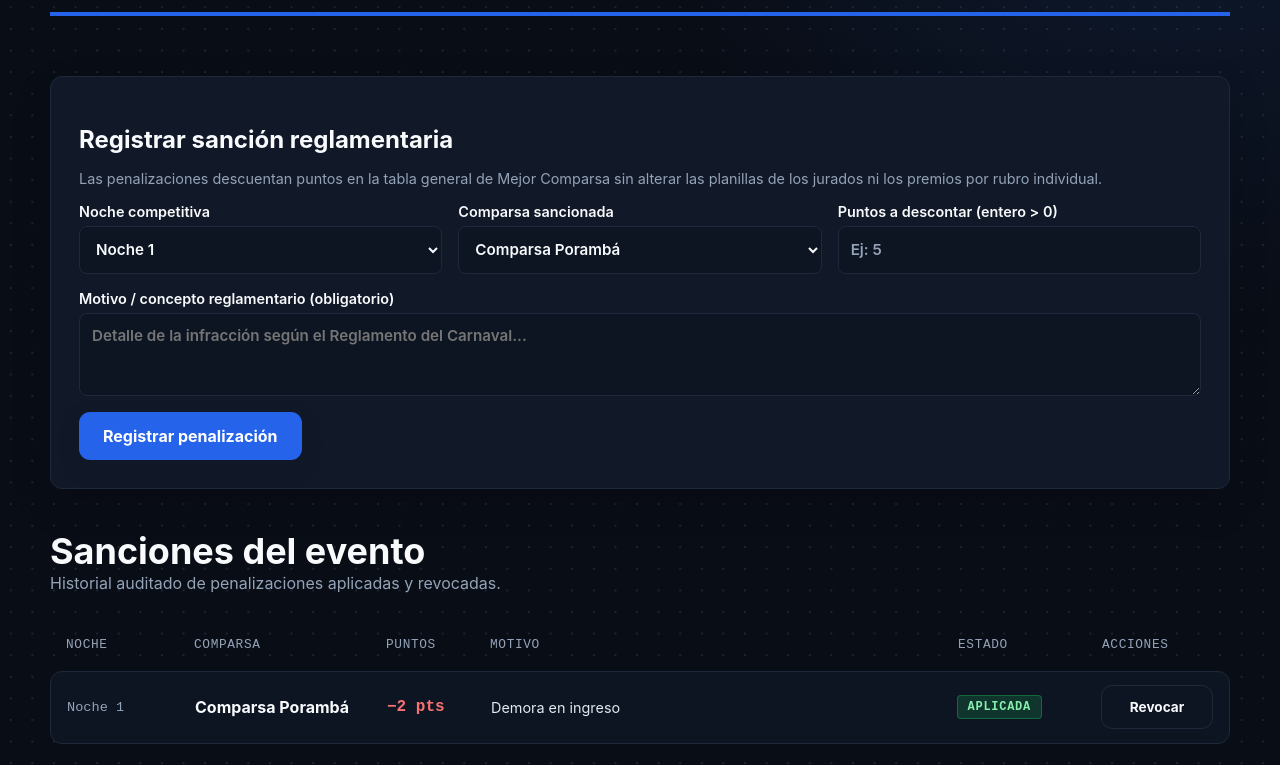
AdminPenaltiesPage › abre modal accesible para revocar sanción, valida foco, Escape y retorno de foco
(page scrolled)
Click the button with aria-label "revocar sanción a comparsa porambá" at [1157, 707], box [1101, 685, 1213, 729]
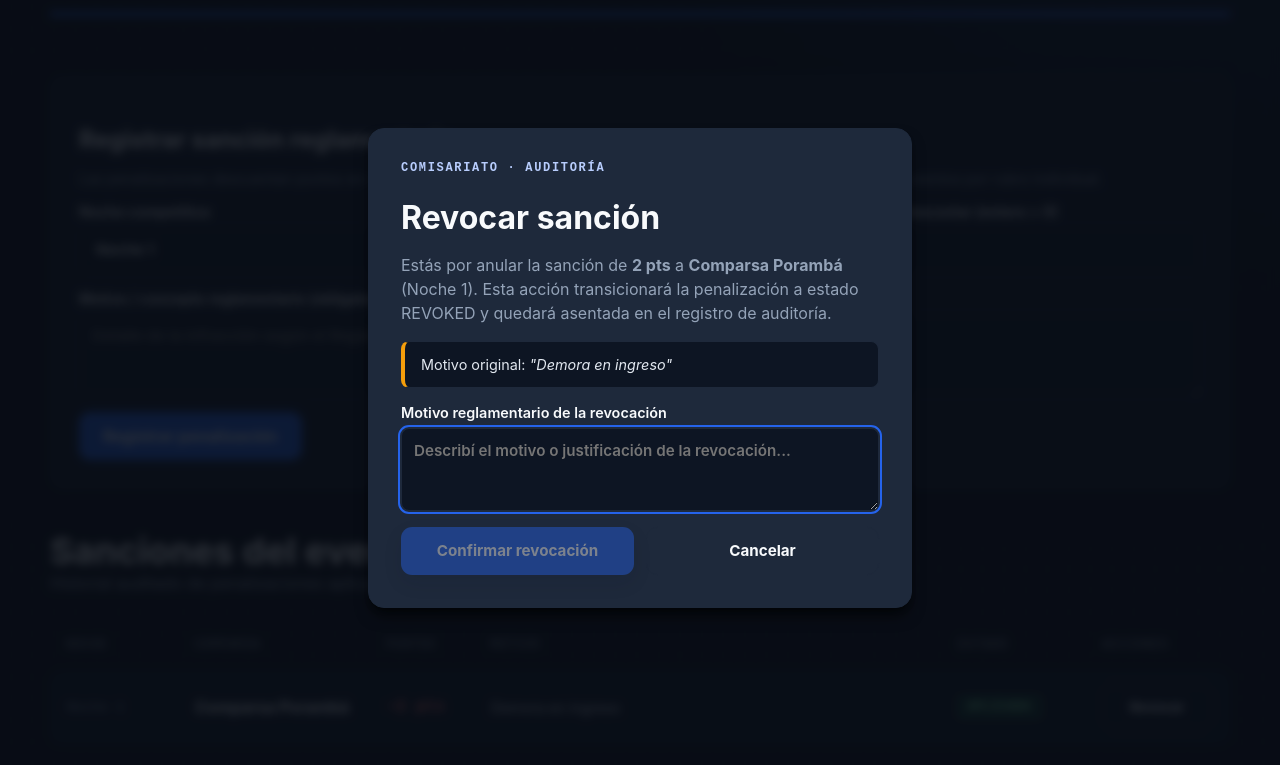
Result: the heading "Revocar sanción" is shown at [401, 198, 660, 237]
Note: Probar cierre con tecla Escape y retorno de foco al botón disparador
Press Escape
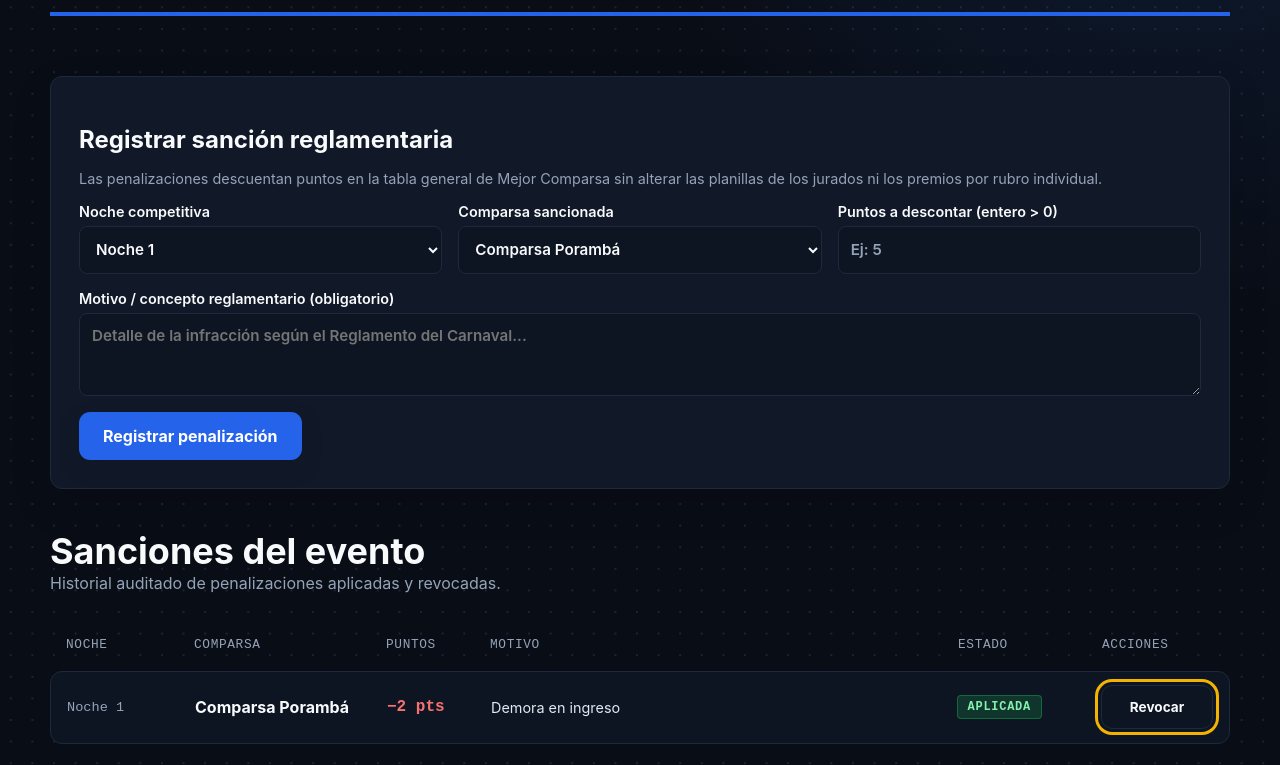
Result: the heading "Revocar sanción" is gone
Note: Reabrir y completar revocación
Click the button with aria-label "revocar sanción a comparsa porambá" at [1157, 707], box [1101, 685, 1213, 729]
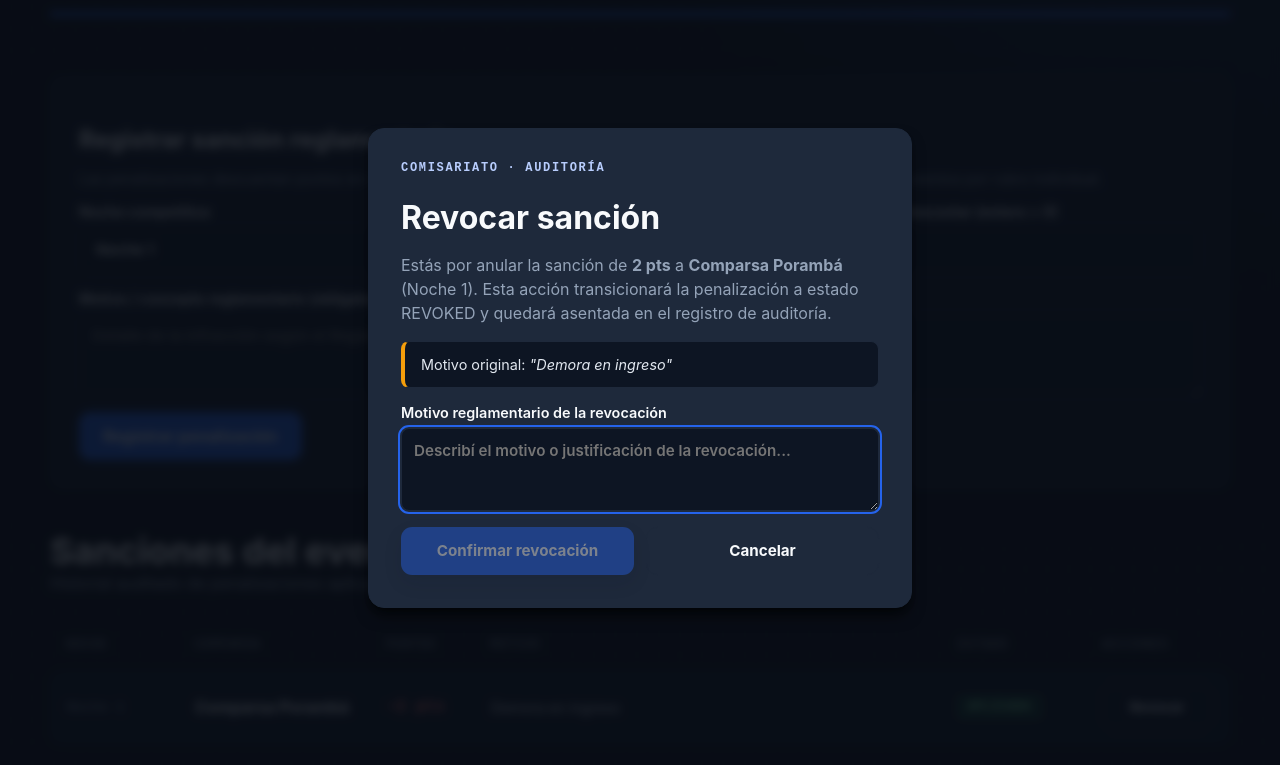
Type "Anulación por error de cronometraje" into the text box labelled "Motivo reglamentario de la revocación" at [640, 469], box [401, 428, 879, 511]
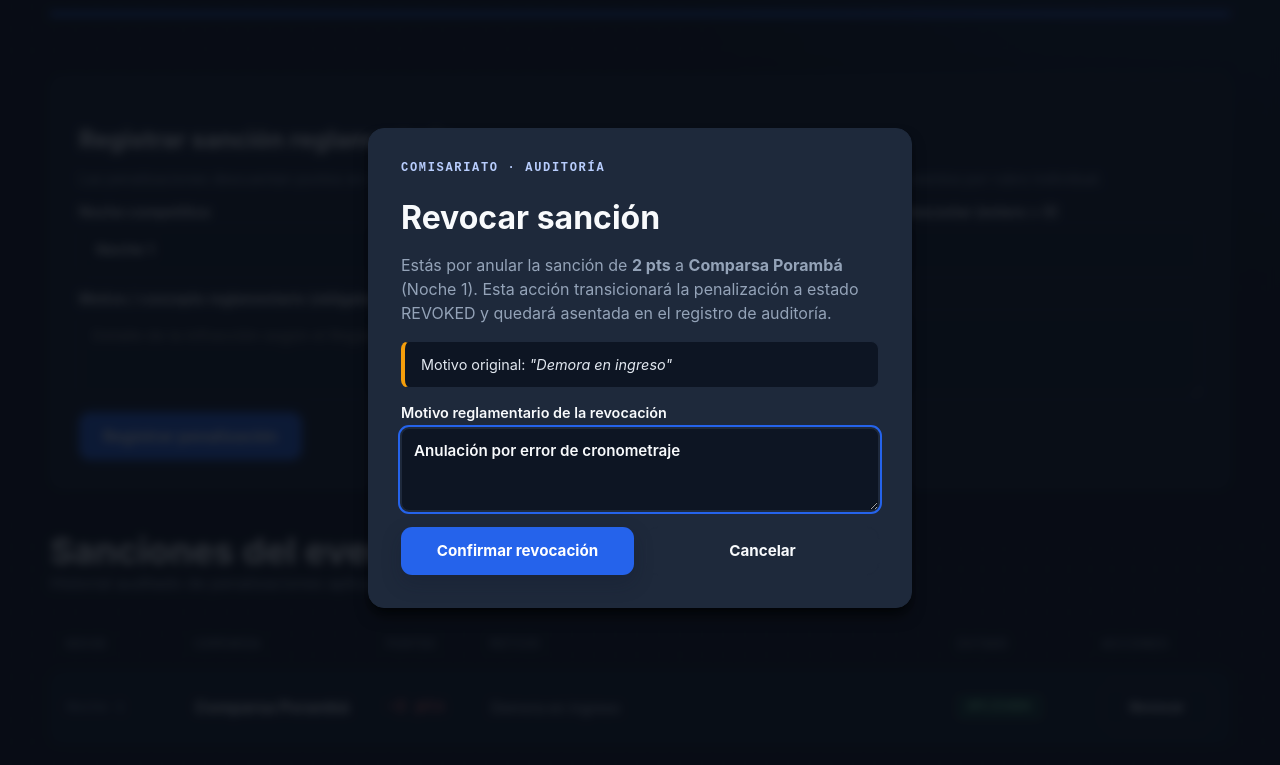
Click the button "Confirmar revocación" at [518, 551], box [401, 527, 634, 575]
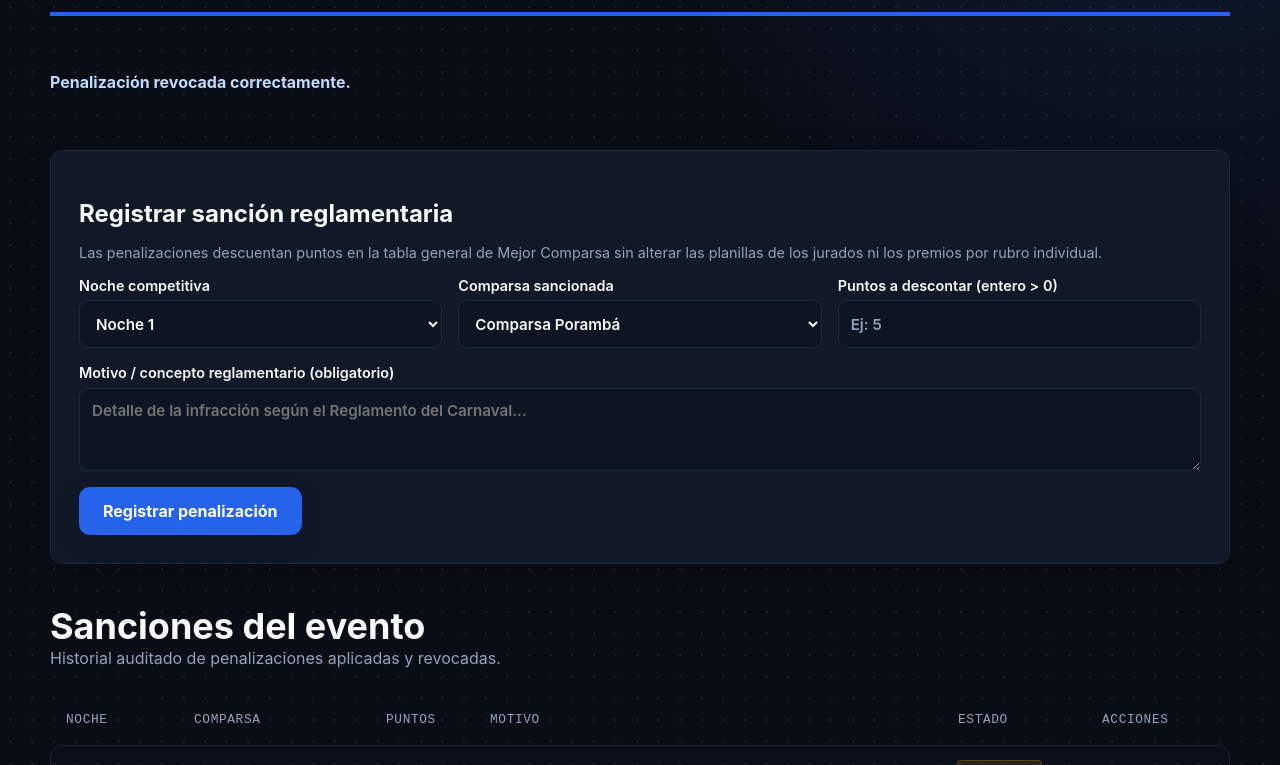
Result: the text "Penalización revocada correctamente." is shown at [50, 72, 351, 92]
Result: the heading "Revocar sanción" is gone
